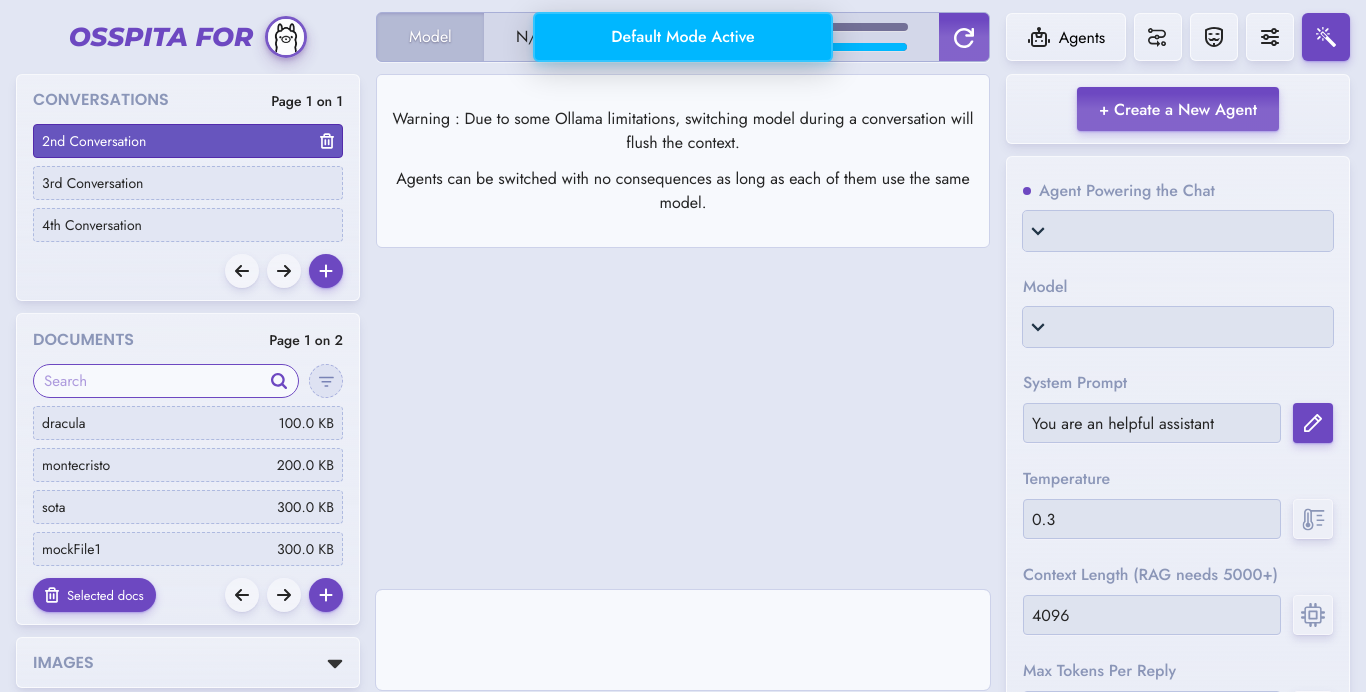
Test: Given I am on the Chat page › Can navigate between RAG Documents
Expected: the text "OSSPITA FOR" is shown, [69,18,253,56]
Expected: the list item "dracula 100.0 KB" is shown, [33,406,343,440]
What coordinates should you click on to do the following:
click the button titled "next page" next to "Selected docs"
I would click on:
 (284, 595)
Its box is [267,578,301,612].
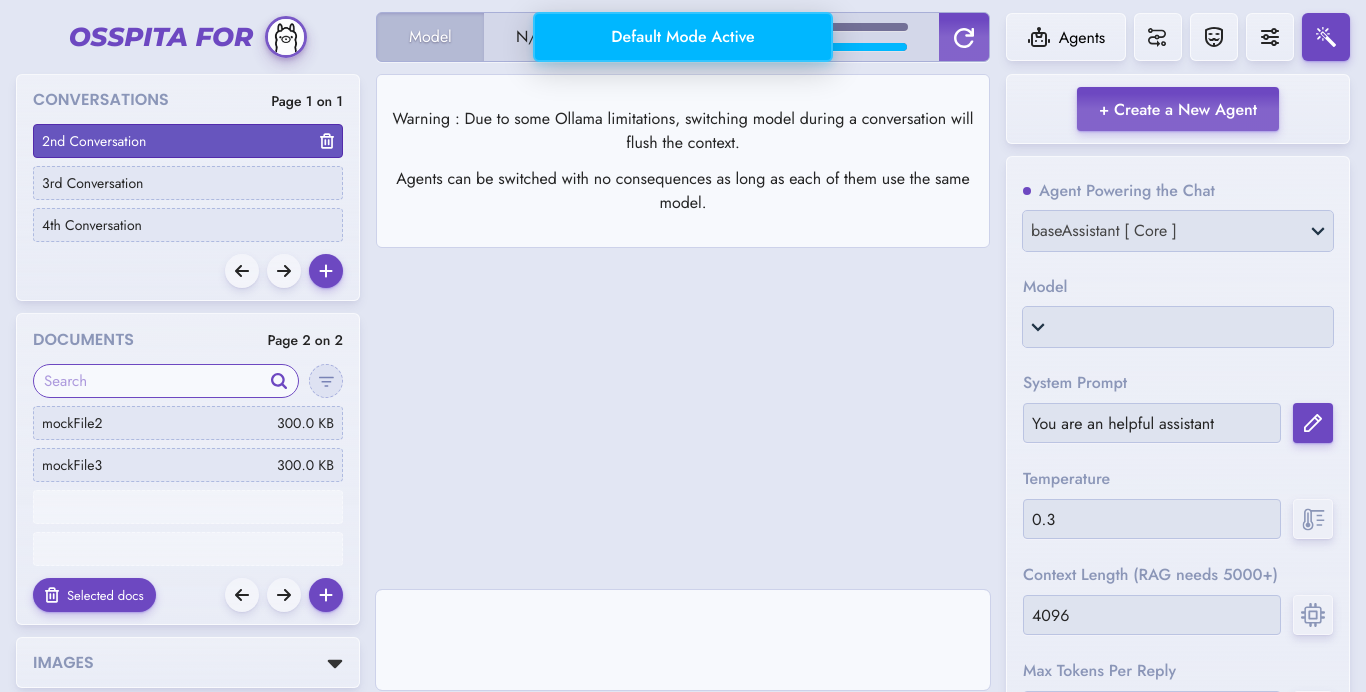
Expected: the list item "mockFile2 300.0 KB" is shown, [33,406,343,440]
Expected: the list item "mockFile3 300.0 KB" is shown, [33,448,343,482]
Expected: the list item "dracula" is gone
What coordinates should you click on to do the following:
click the button titled "previous page" next to "Selected docs"
I would click on:
 (242, 595)
Its box is [225,578,259,612].
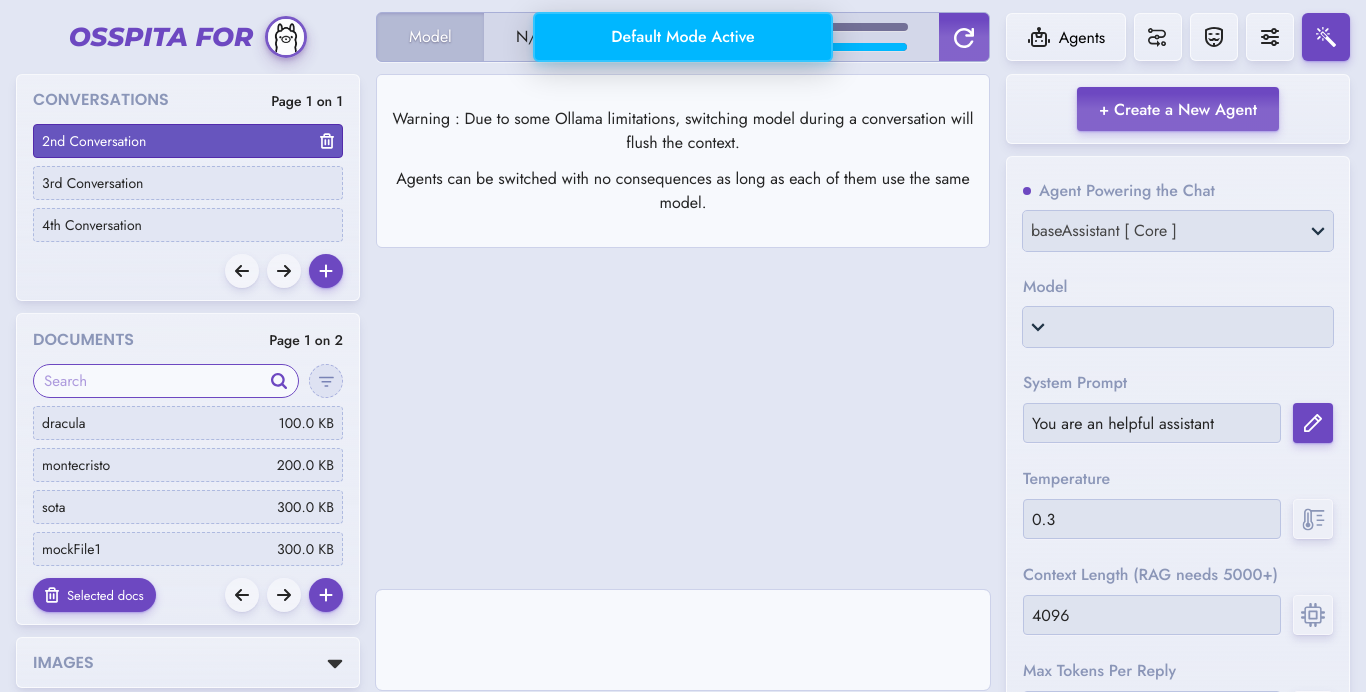
Expected: the list item "dracula 100.0 KB" is shown, [33,406,343,440]
Expected: the list item "mockFile2" is gone
